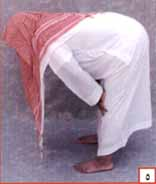ruku: (3, 4, 156, 157)
